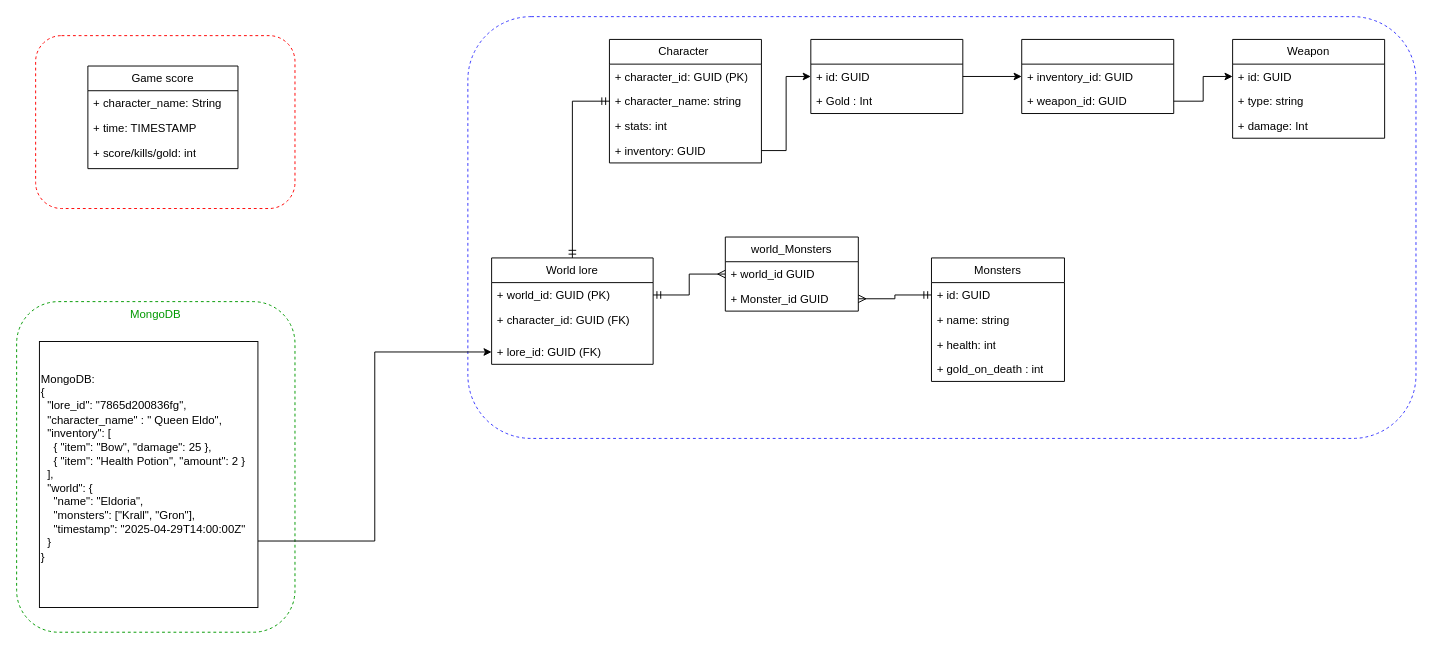
The diagram is 1433 pixels wide and 649 high, and some of its shapes have lost their labels. Each missing label, with the box of its shape:
Inventory: (810, 38, 963, 114)
Redis: (35, 35, 295, 209)
SQL: (467, 16, 1416, 438)
Weapon_inventory: (1021, 38, 1174, 114)
